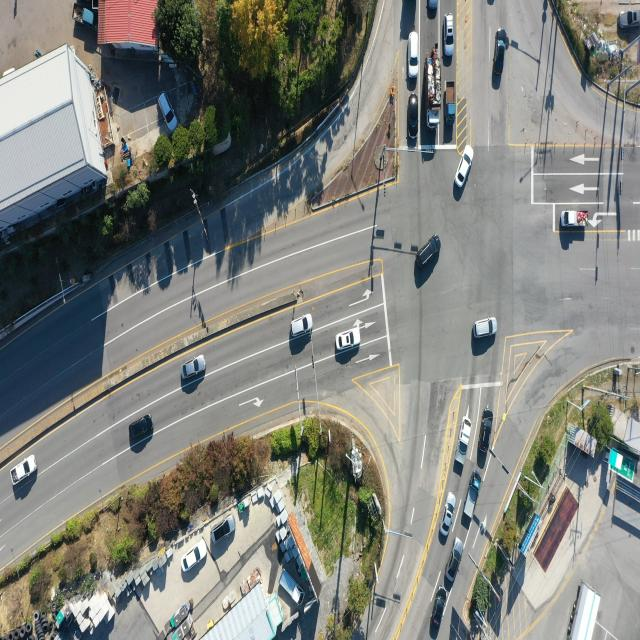car: (181, 536, 207, 572), (417, 232, 440, 272), (447, 538, 465, 583), (130, 415, 156, 443), (12, 457, 36, 487), (492, 29, 506, 80), (442, 493, 458, 537), (456, 148, 473, 188), (480, 411, 494, 459), (212, 518, 235, 547), (160, 91, 177, 130), (432, 586, 446, 629), (183, 356, 207, 380), (338, 329, 362, 353), (290, 314, 312, 338), (410, 31, 420, 78), (475, 318, 497, 338), (618, 10, 640, 27), (446, 16, 455, 56), (410, 94, 419, 132), (427, 0, 438, 11)
medium_truck: (565, 584, 600, 640), (426, 51, 438, 128)
small_truck: (462, 471, 482, 523), (452, 417, 472, 464), (275, 568, 301, 604), (71, 3, 95, 27), (560, 209, 588, 229), (446, 82, 458, 126)
